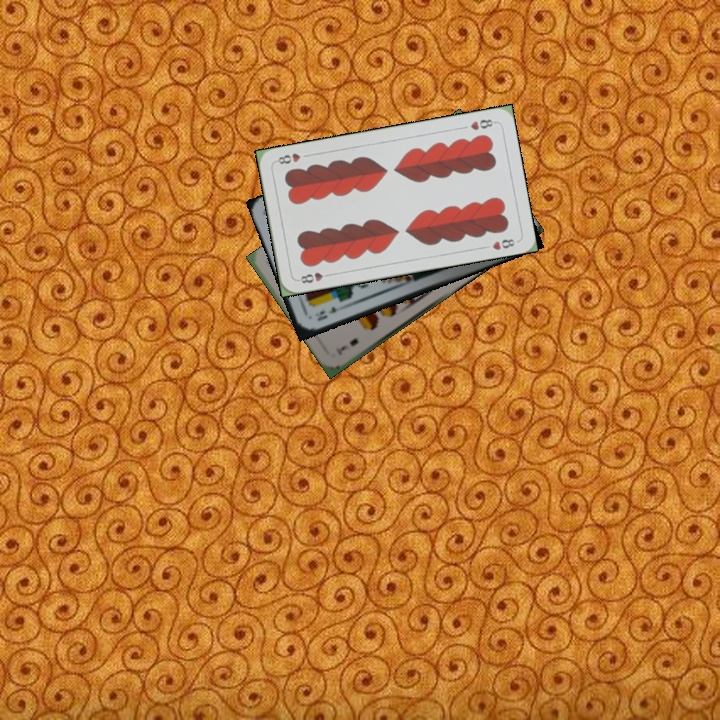E7: (332, 334, 361, 357)
EK: (313, 301, 347, 323)
H8: (294, 268, 334, 286), (466, 115, 498, 133)
